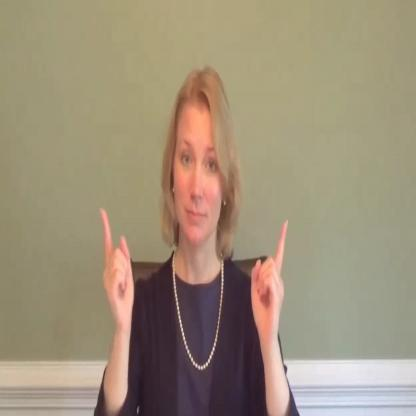NiceToMeetYou: (101, 60, 292, 416)
